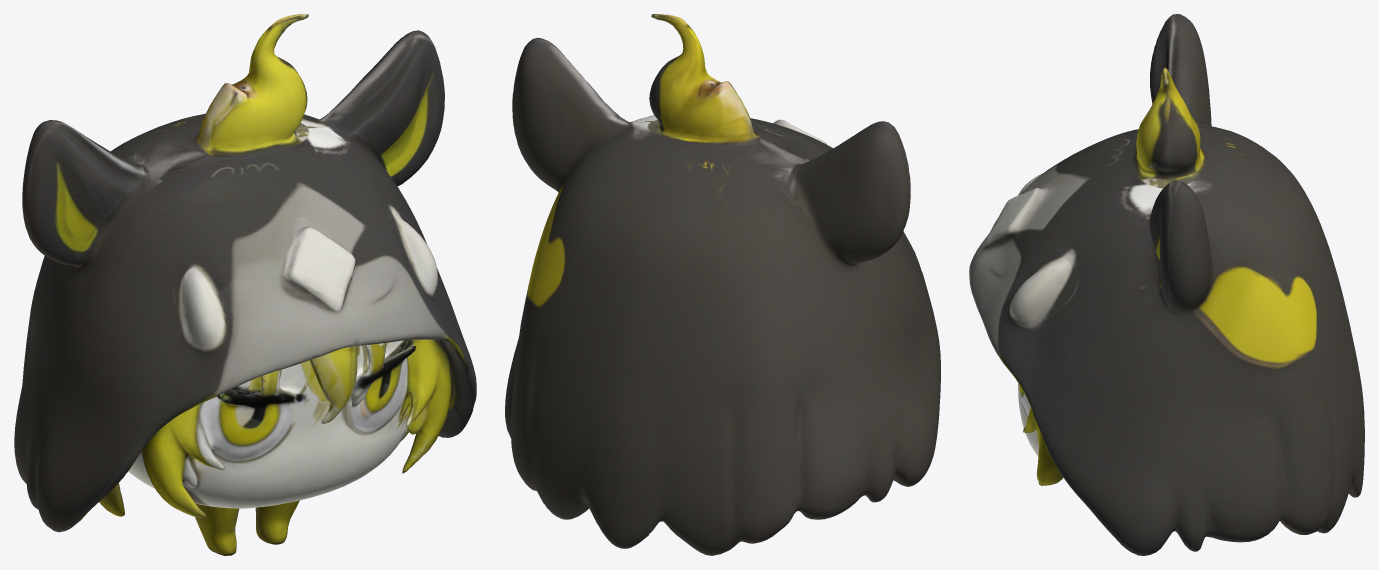
File: cub.glb
The picture shows the model from 3 angles, left to right: view 1: azimuth 30°, elevation 25°; view 2: azimuth 150°, elevation 25°; view 3: azimuth 270°, elevation 25°; orthographic projection. The views are drawn at different scales.
Bounding box in the file's own units: 1.71 × 2 × 1.5.
1 material, 1 textured.
